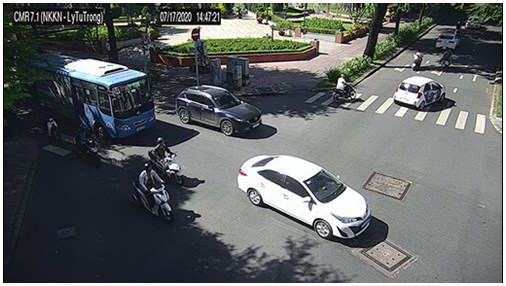xe_buyt: (28, 50, 157, 139)
xe_hoi: (237, 155, 370, 239), (175, 84, 263, 136), (393, 76, 447, 109), (436, 30, 460, 50), (466, 17, 484, 32)
xe_may: (132, 164, 173, 221), (148, 137, 184, 186), (74, 123, 102, 165), (36, 104, 63, 142), (331, 73, 357, 103), (439, 47, 452, 70), (412, 50, 424, 70)
